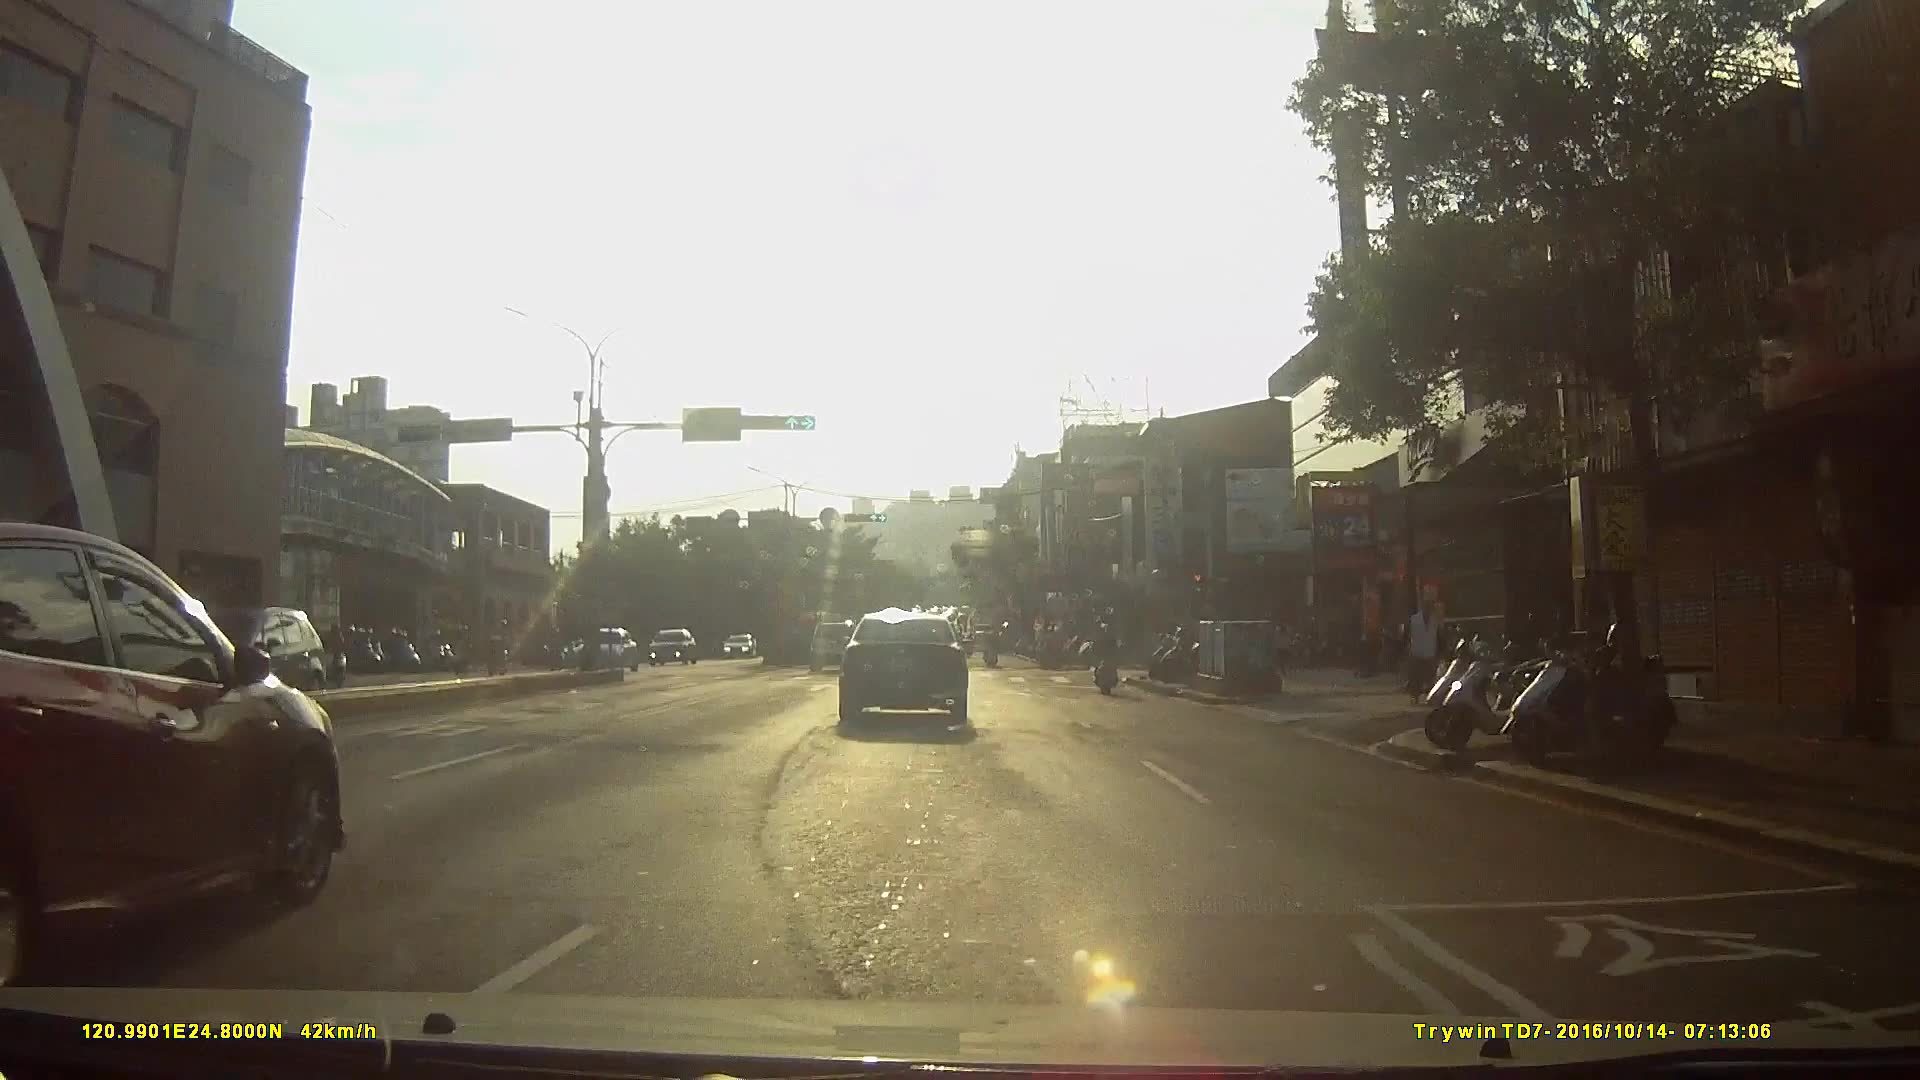pedestrian: (1397, 593, 1445, 714)
rider: (1091, 620, 1120, 696), (378, 631, 424, 677), (321, 627, 351, 689), (1037, 626, 1071, 672), (983, 625, 1003, 670)
vehicle: (1, 523, 356, 991), (836, 610, 984, 735), (169, 601, 331, 705), (575, 629, 644, 678), (807, 625, 866, 680), (649, 627, 701, 669), (719, 634, 761, 665)
